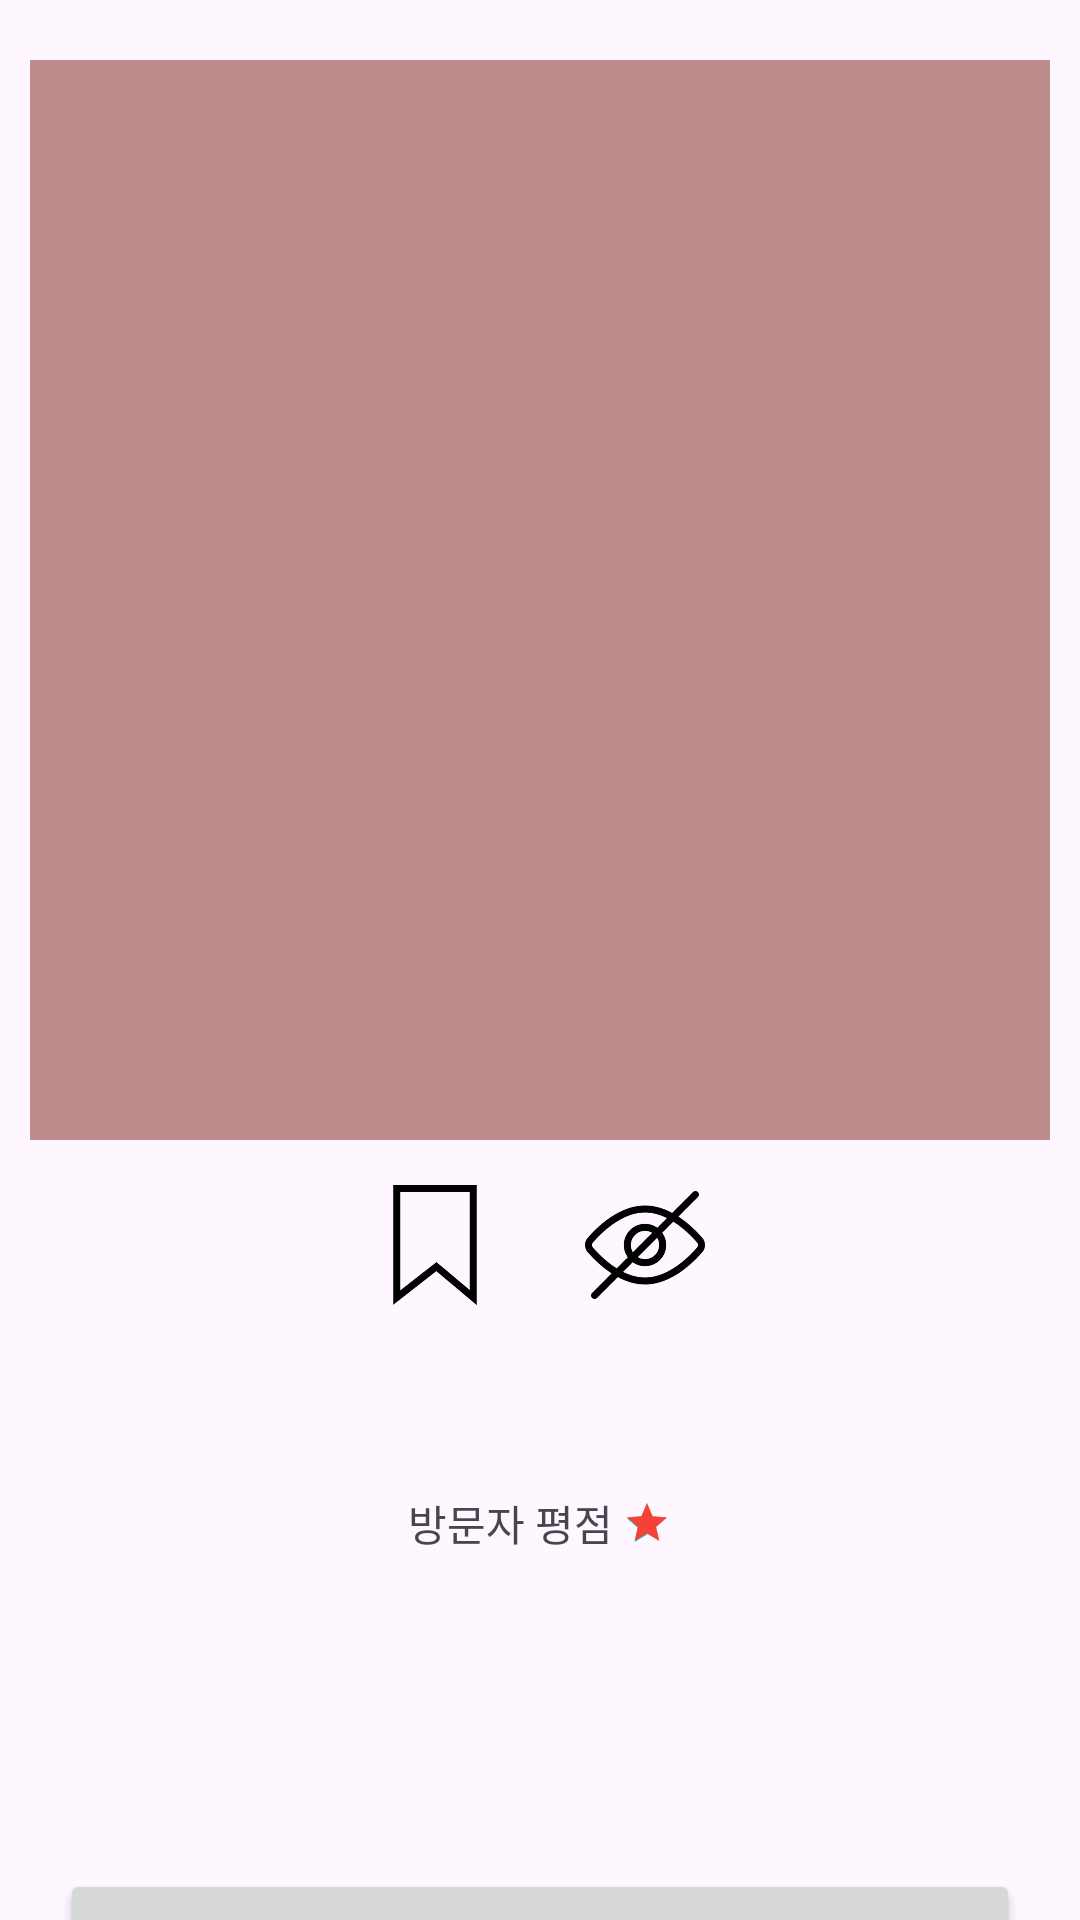

Icons on this 1080*1920 Android screen, each with its box as [left=x1, top=y1, right=x2, bottom=y2]:
bookmark before: [left=393, top=1185, right=477, bottom=1305]
